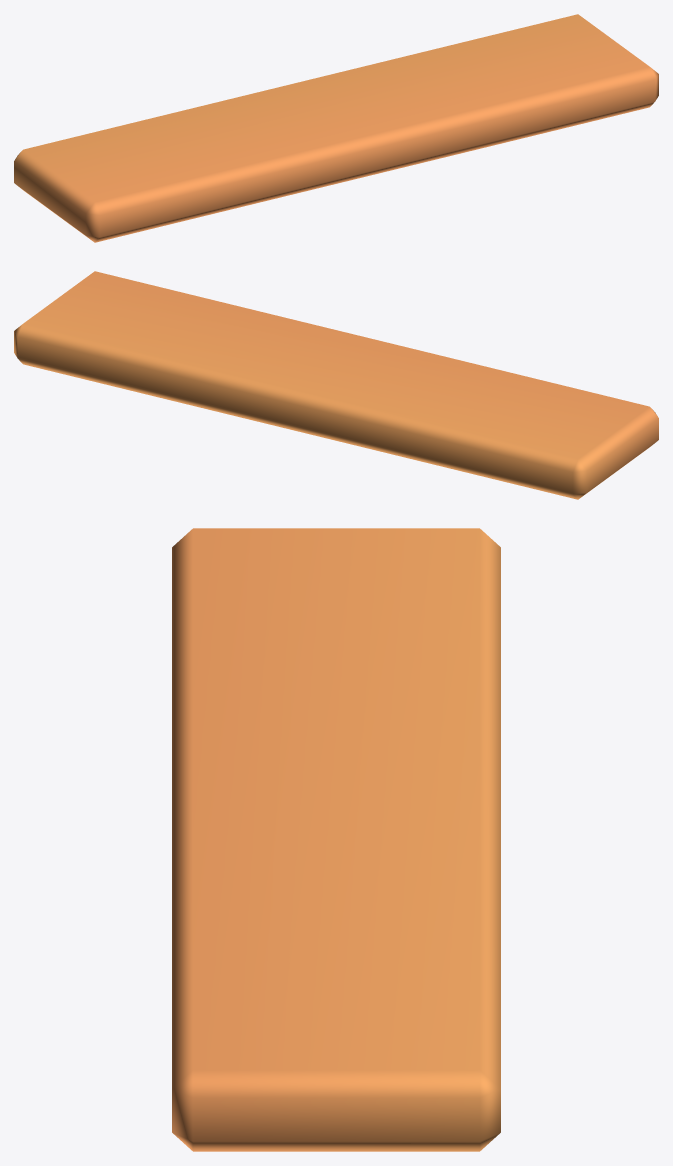
Rendered from Furniture_WallDecoration_2.fbx.
3 views of the same model, one above another, from view 1: azimuth 30°, elevation 25°; view 2: azimuth 150°, elevation 25°; view 3: azimuth 270°, elevation 25° (orthographic). The views are drawn at different scales.
Parts seen in each view (by area): view 1: Furniture_WallDecoration_2; view 2: Furniture_WallDecoration_2; view 3: Furniture_WallDecoration_2.
Part boxes in pixels (x1=…): Furniture_WallDecoration_2: x1=14, y1=14, x2=658, y2=242; Furniture_WallDecoration_2: x1=14, y1=271, x2=658, y2=499; Furniture_WallDecoration_2: x1=172, y1=528, x2=500, y2=1151.
Size of the model in its own units: 100 by 6.81 by 24.95.
